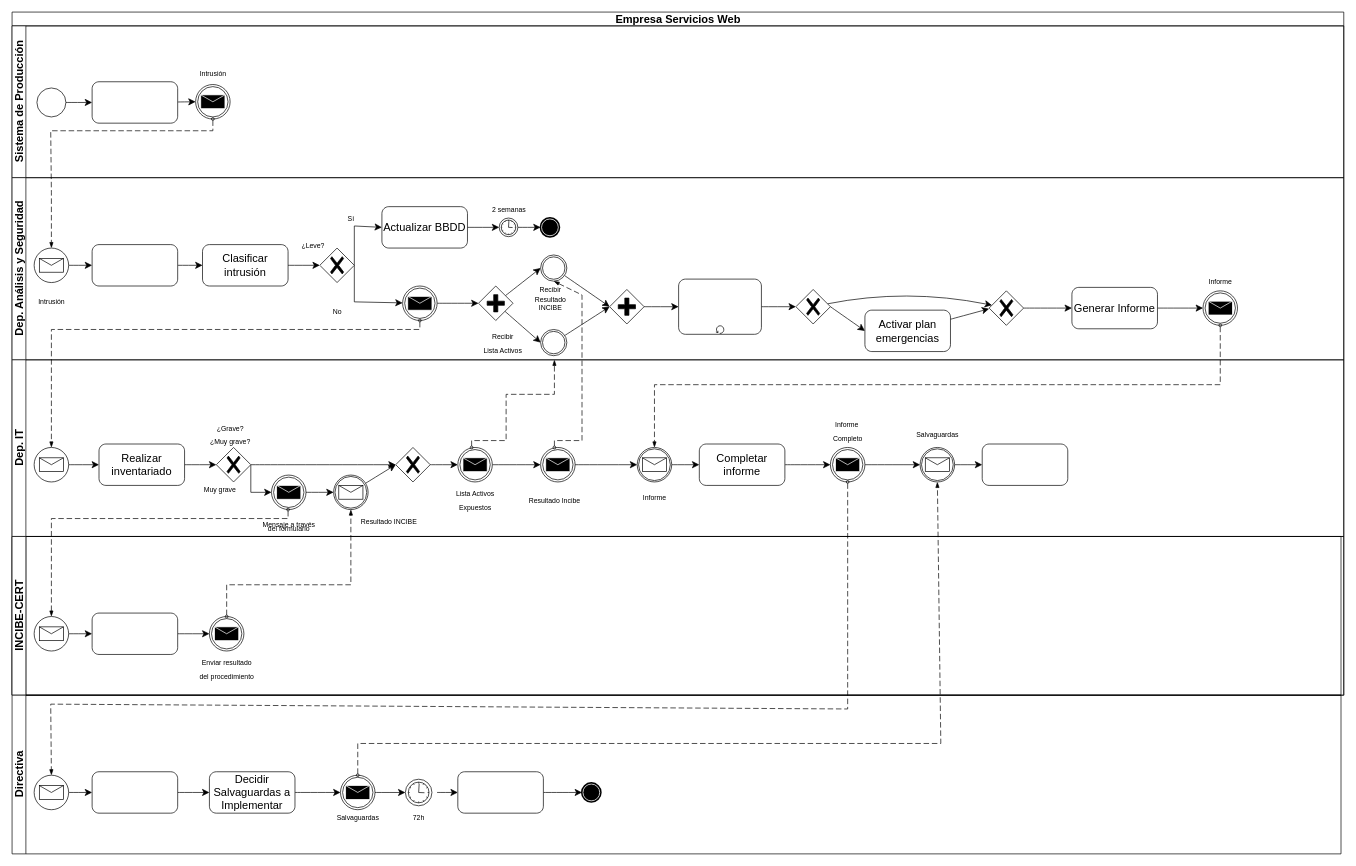
The diagram is 1356 pixels wide and 866 high, and some of its shapes have lost their labels. The shapes that lost their labels are listed below. From the top down, each one's centre as x and y in pixels, then its label:
At point (134, 102): "Detectar Intrusión".
At point (134, 265): "Realizar Análisis de Intrusión".
At point (719, 306): "Realizar Análisis Activo".
At point (1025, 464): "Implementar Salvaguardas".
At point (134, 633): "Generar posible información adicional".
At point (134, 792): "Calificar Riesgo".
At point (500, 792): "Cerrar incidencia".
